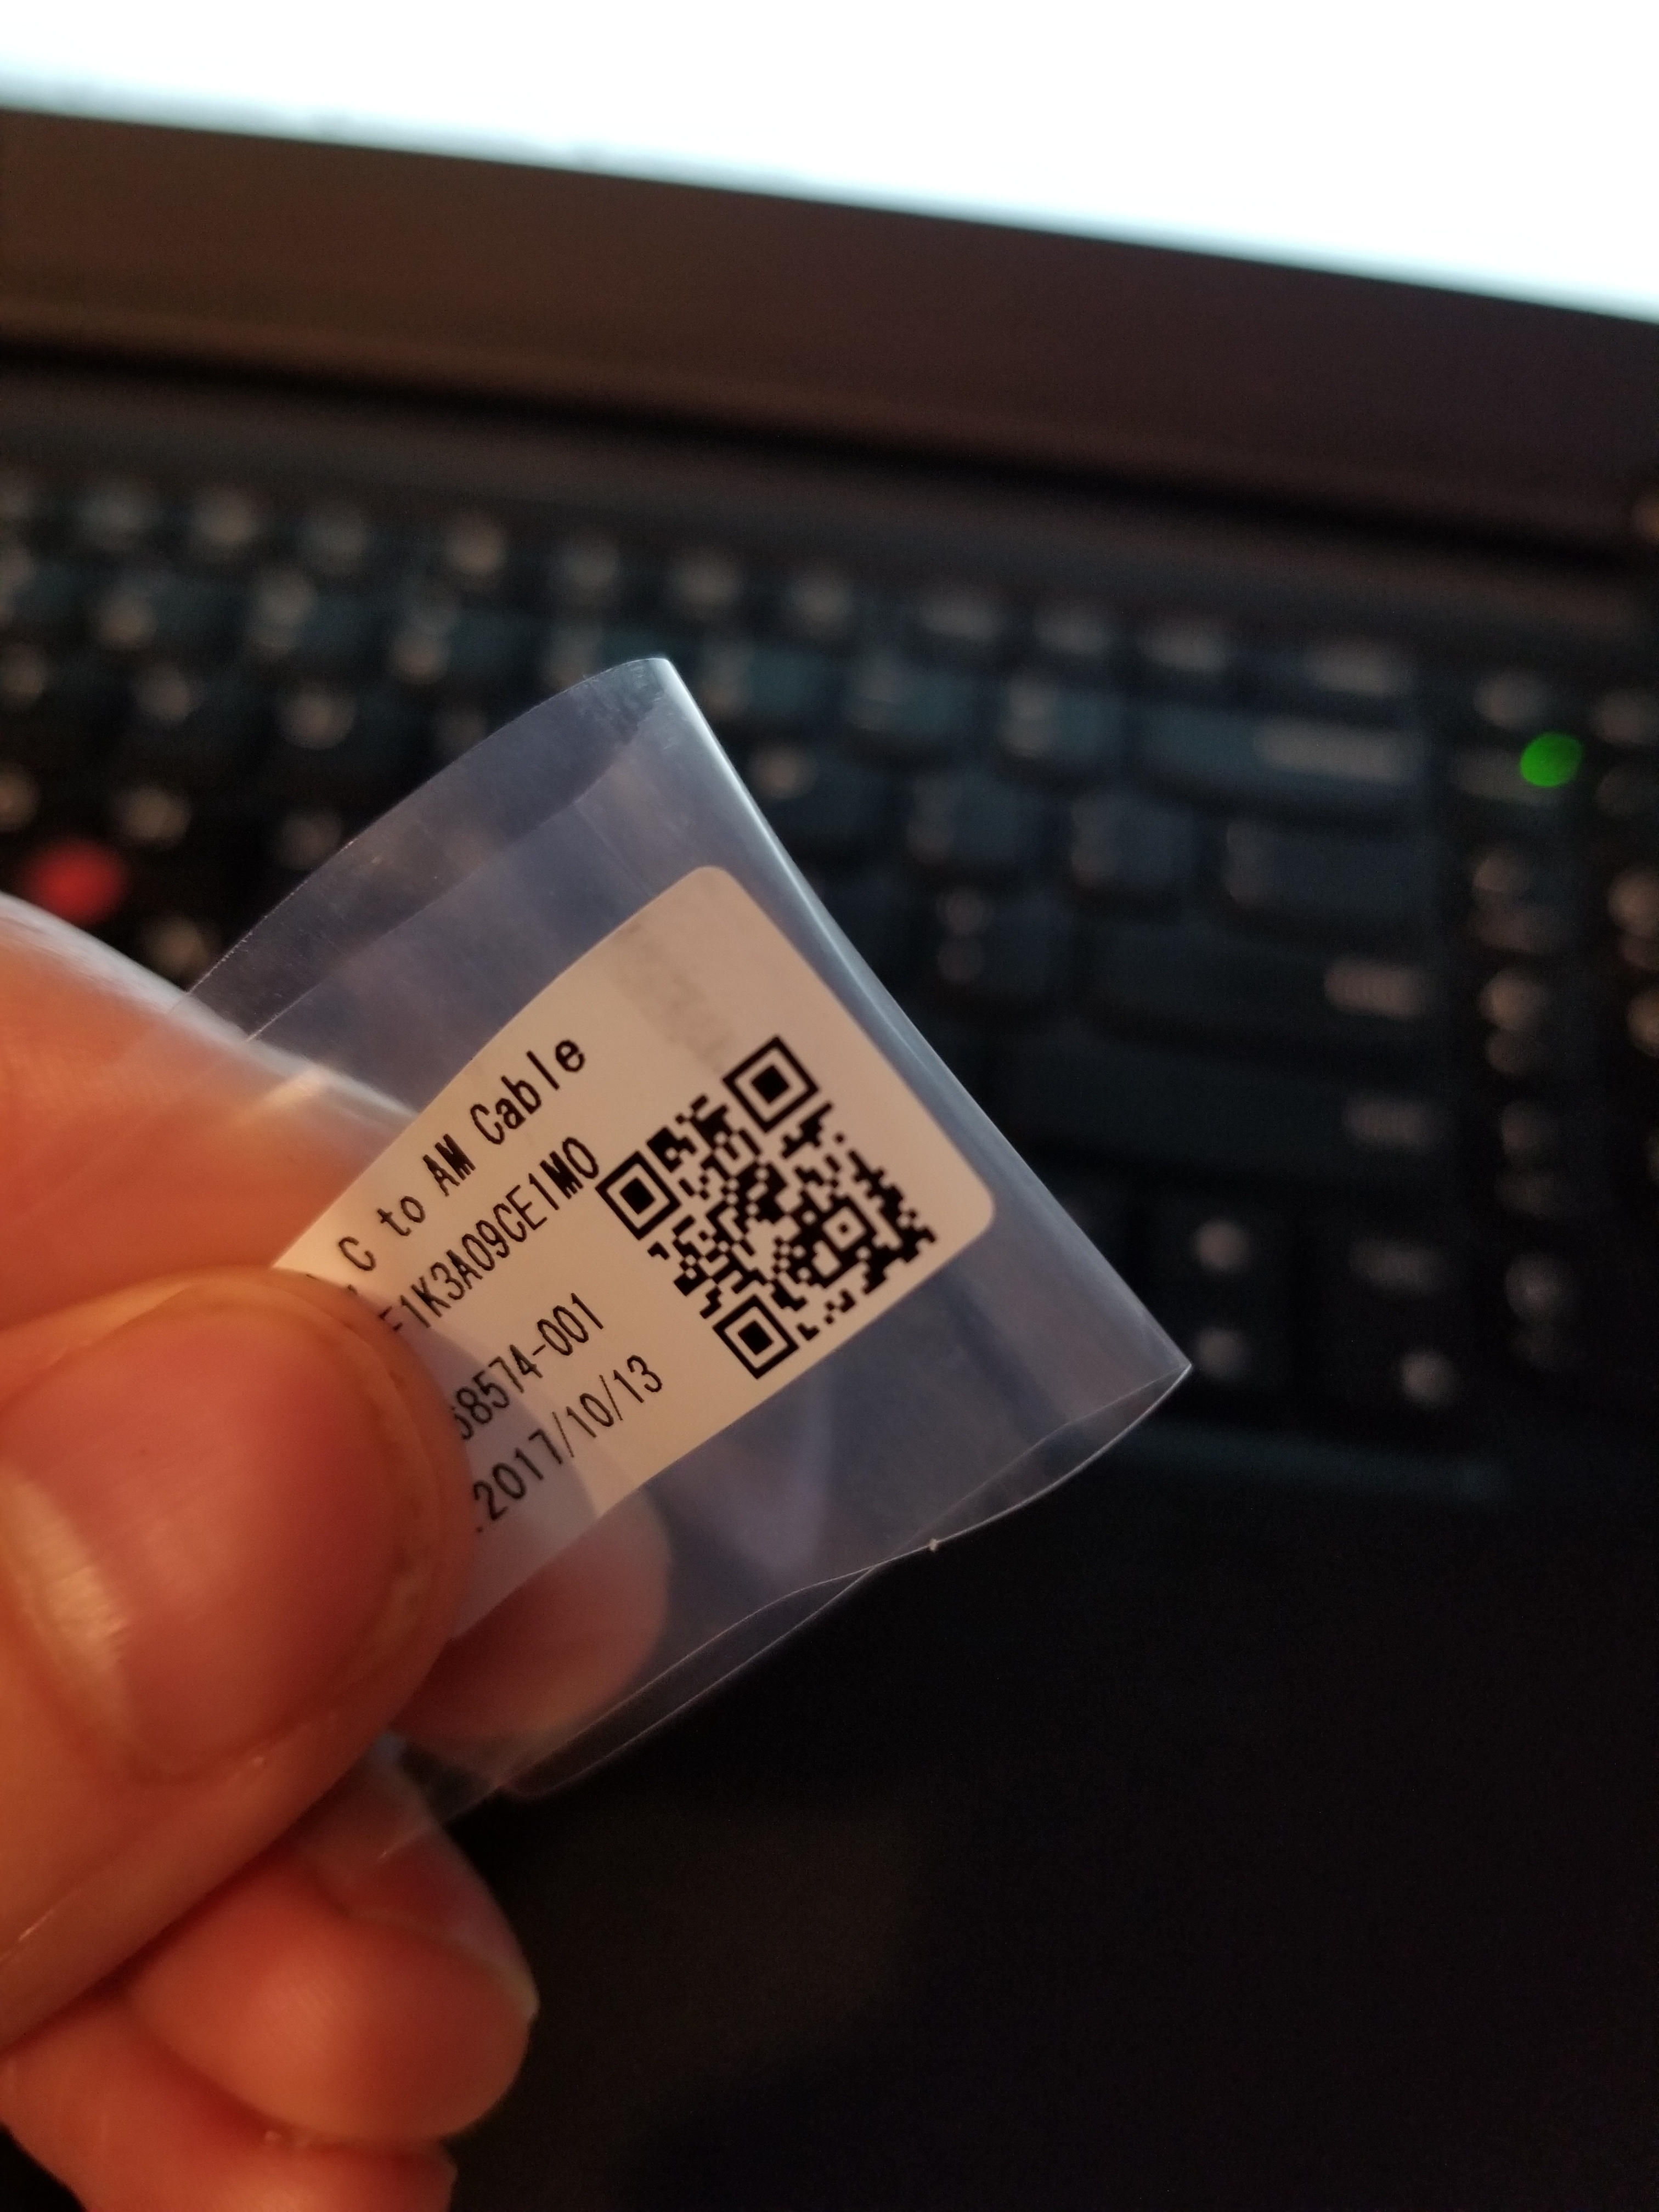QR_CODE: (570, 1003, 967, 1407)
